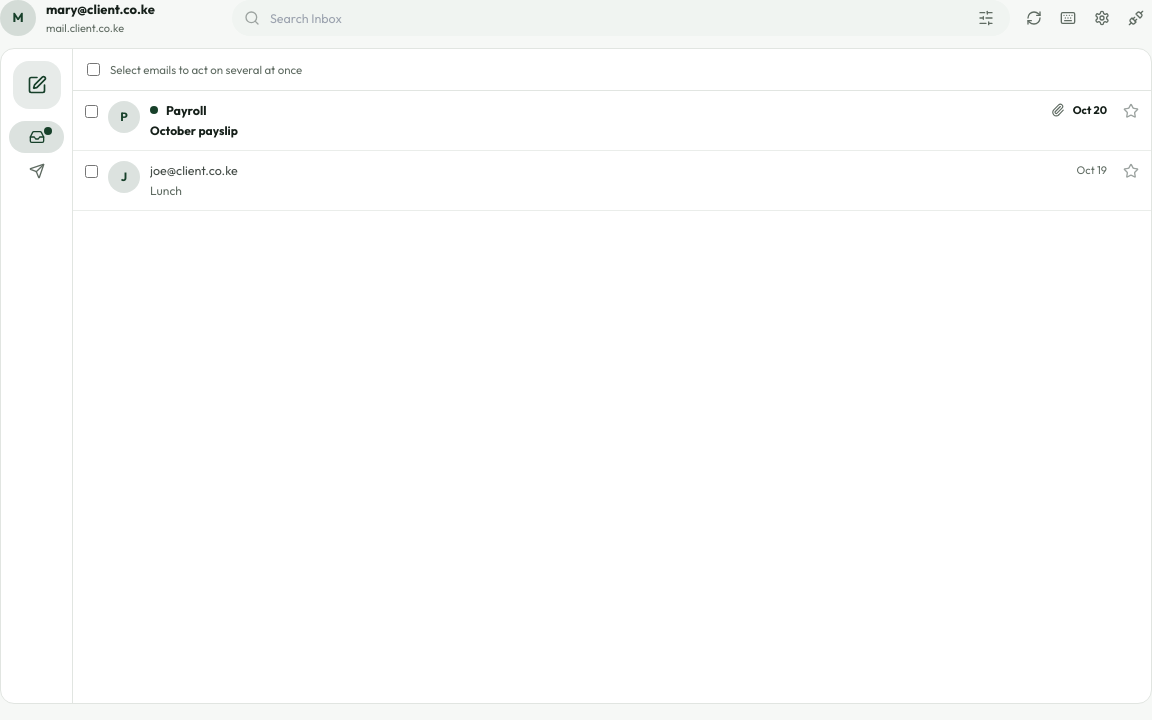
it: sending › New message: recipients (plain or "Name <address>"), subject and text, then Send refreshes the folders
This screenshot has width=1152, height=720.
Click the button named "New message" at (36, 85), box left=12, top=61, right=60, bottom=109
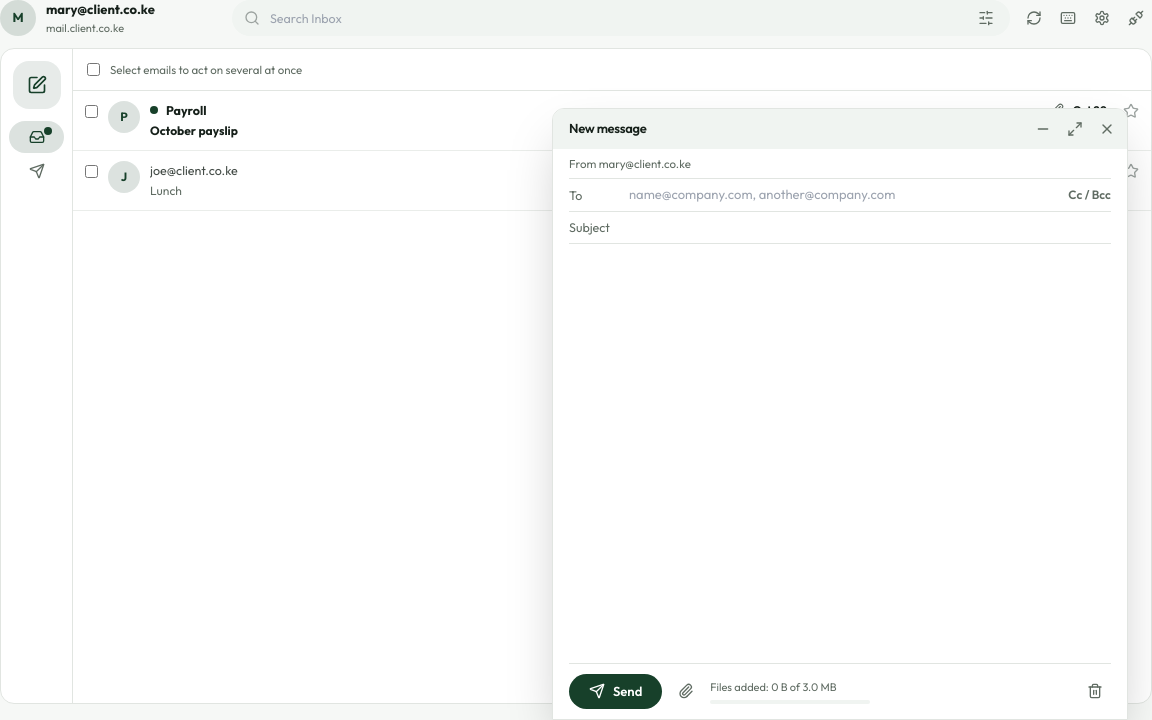
Expected: the text "From mary@client.co.ke" is shown, left=569, top=149, right=1111, bottom=179
Type "joe@client.co.ke; Ann Kariuki <ann@client.co.ke>" into the field labelled "To" at (843, 195), box left=625, top=179, right=1060, bottom=211
Click the button "Cc / Bcc" at (1090, 195), box left=1068, top=186, right=1111, bottom=204
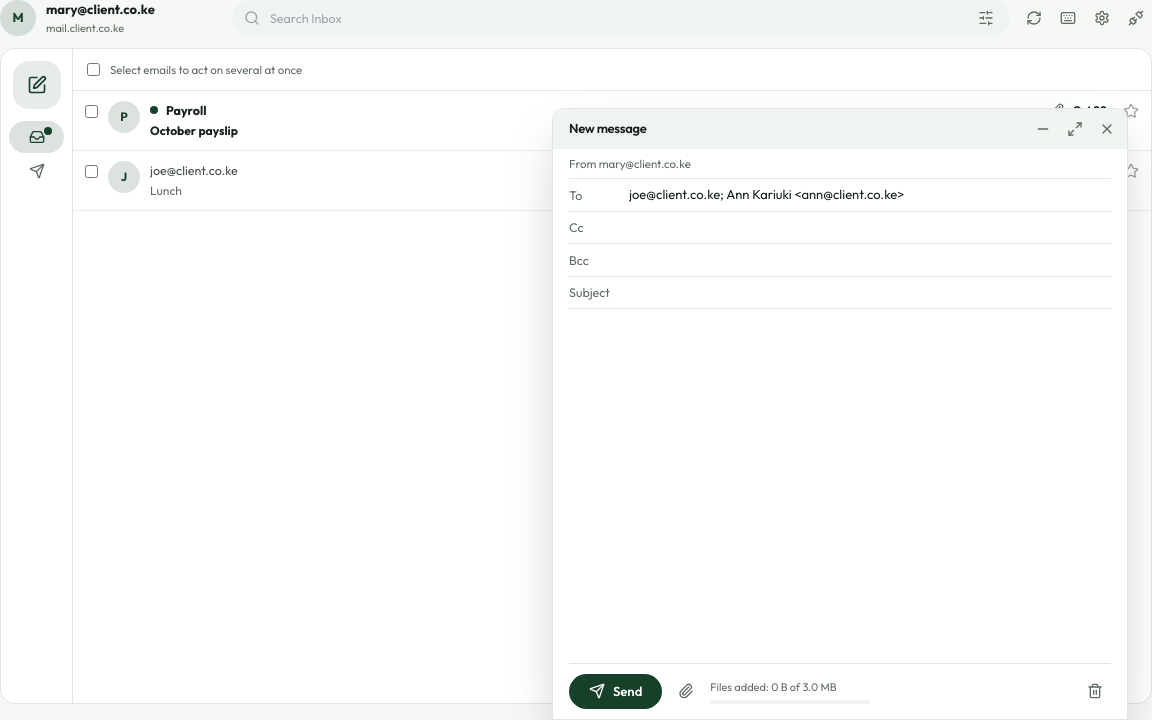
Type "boss@client.co.ke" into the field labelled "Bcc" at (868, 260), box left=625, top=244, right=1111, bottom=276
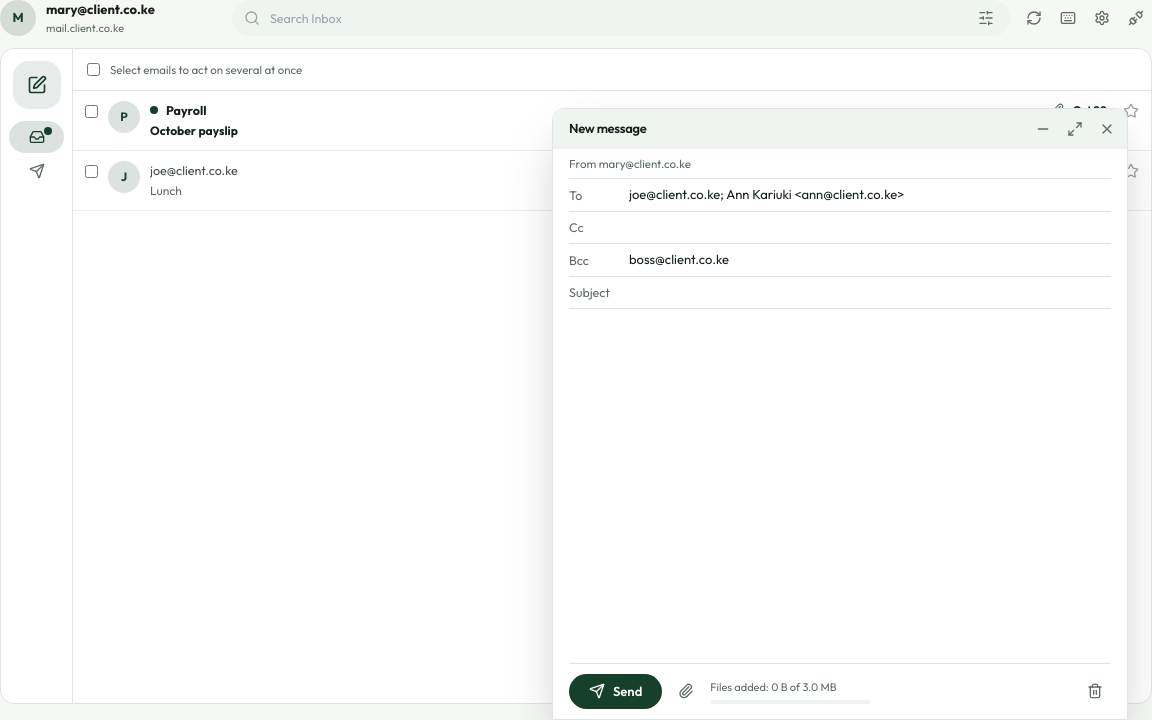
Type "Team lunch" into the field labelled "Subject" at (868, 293), box left=625, top=277, right=1111, bottom=308
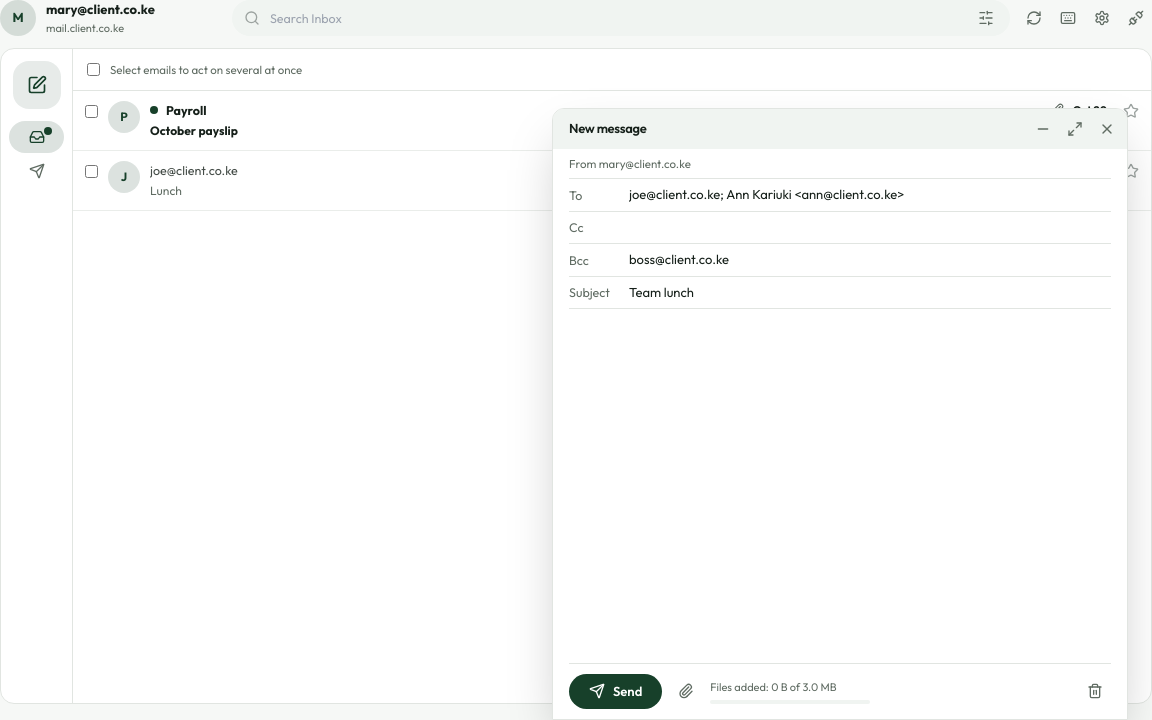
Type "Friday at 1?" into the text box named "Message" at (840, 486), box left=569, top=309, right=1111, bottom=663
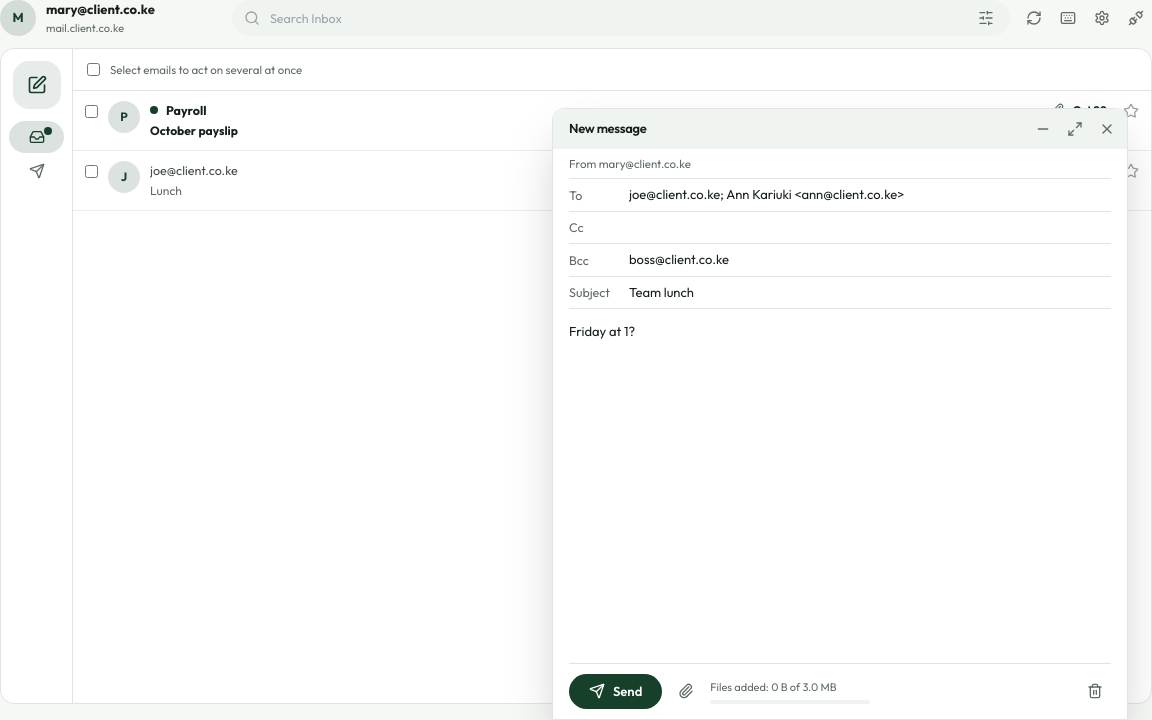
Click the button "Send" at (616, 691), box left=569, top=674, right=662, bottom=709
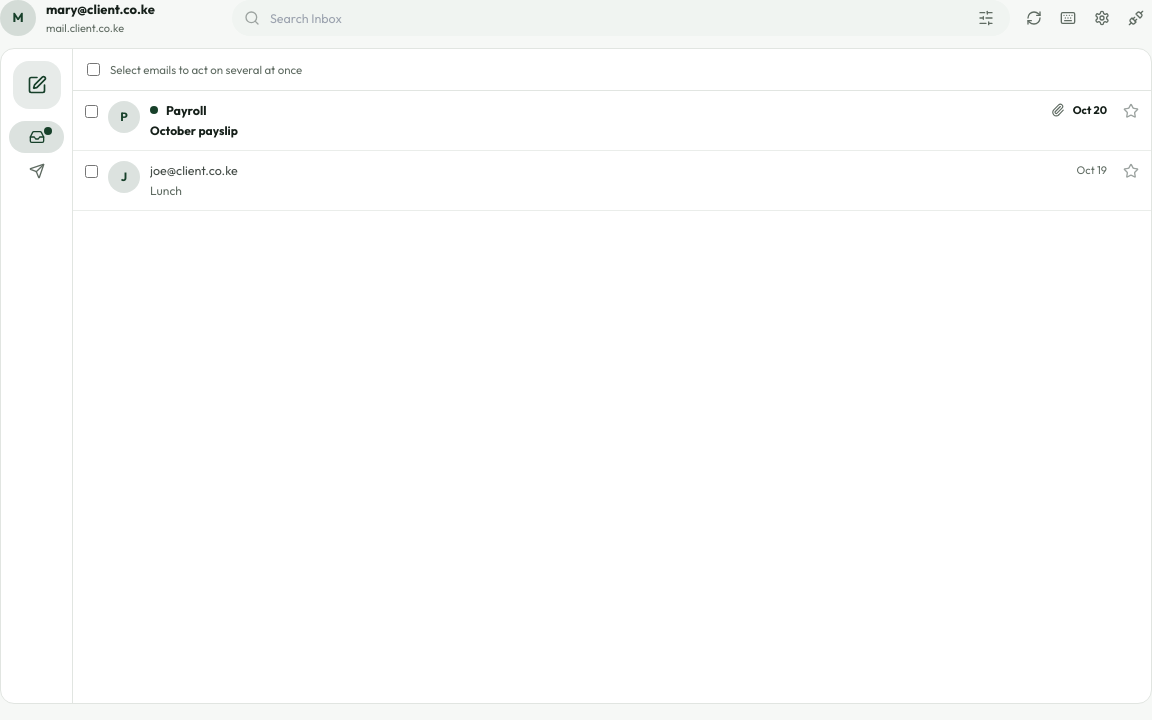
Expected: the button "New message" is gone
